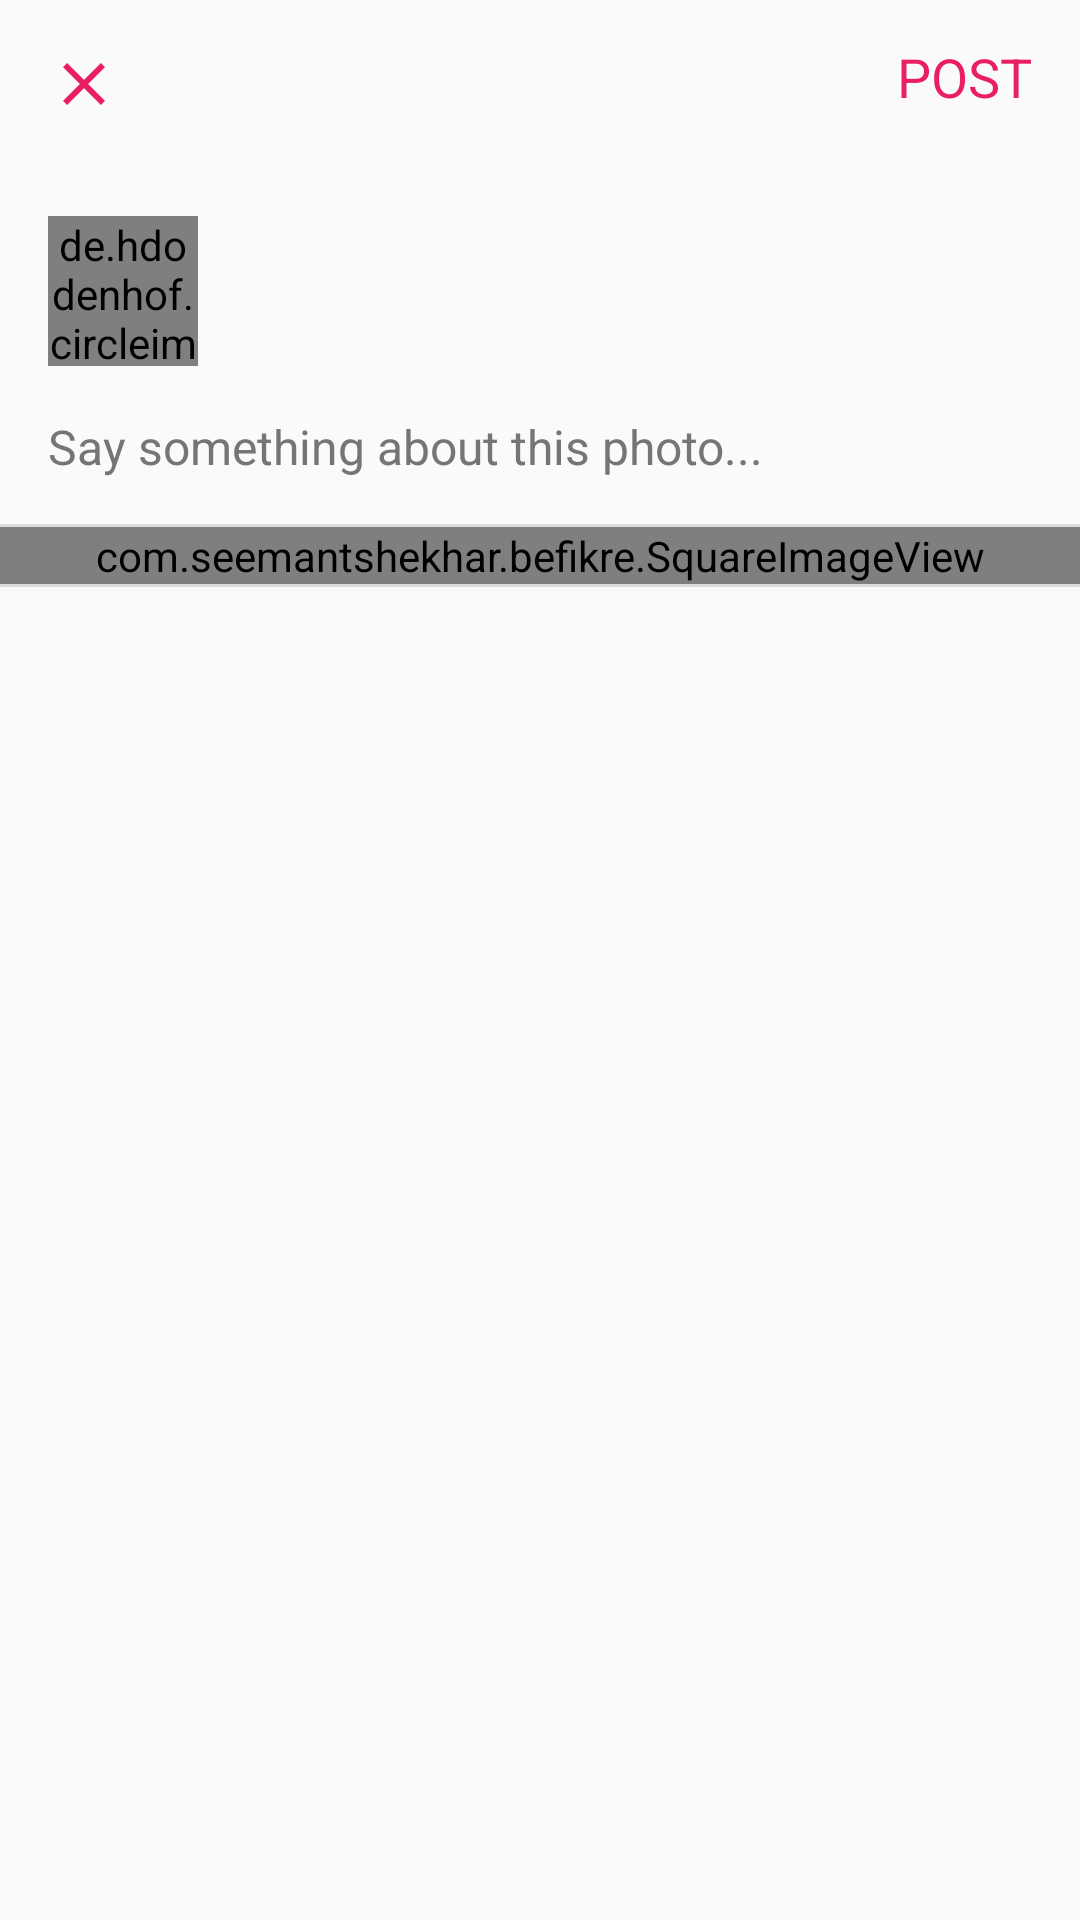

Named icons in this screenshot (1080px×1920px) and their centers, point (x, y):
close: point (84, 84)
